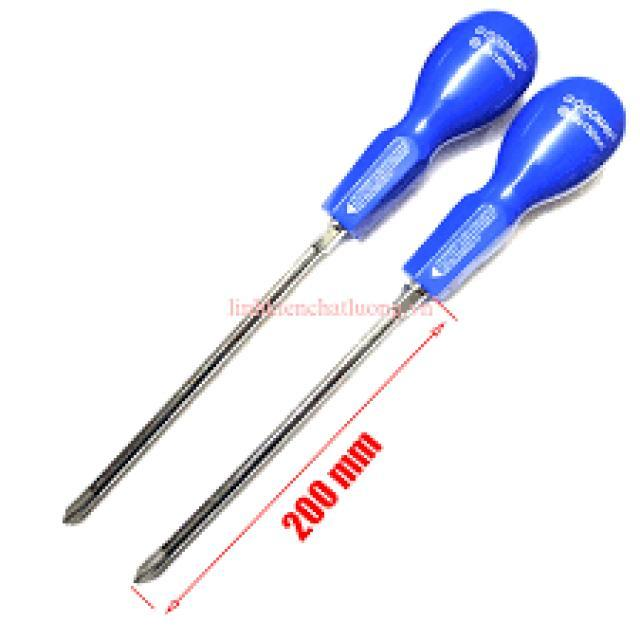screwdriver: (49, 6, 538, 530), (127, 76, 627, 584)
